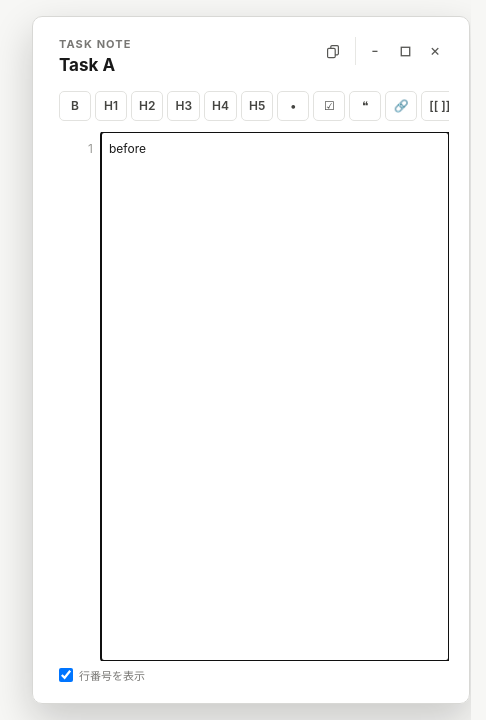
Scenario: TaskNoteEditor › blocks Task Note autosave, Ctrl+S, and safe flush while an internal-link marker is unresolved
Click the button named "内部リンクを挿入" at point(440, 106), box [421,91,458,121]
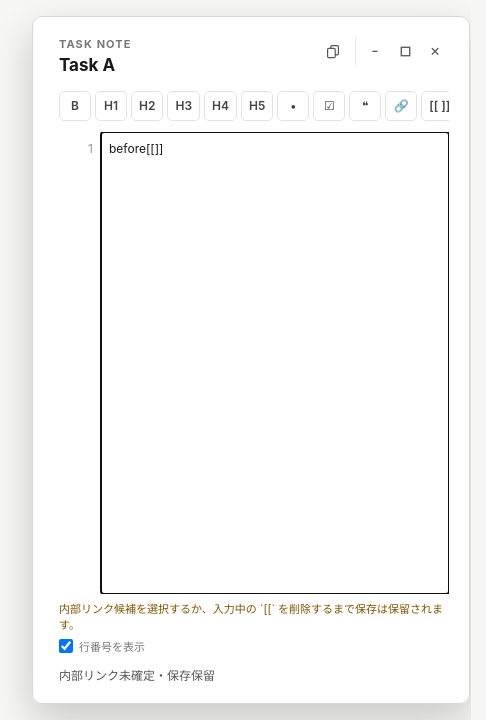
Result: the text box named "Markdown本文" holds "before[ []]"
Press s in the text box named "Markdown本文", box [101,132,449,594]
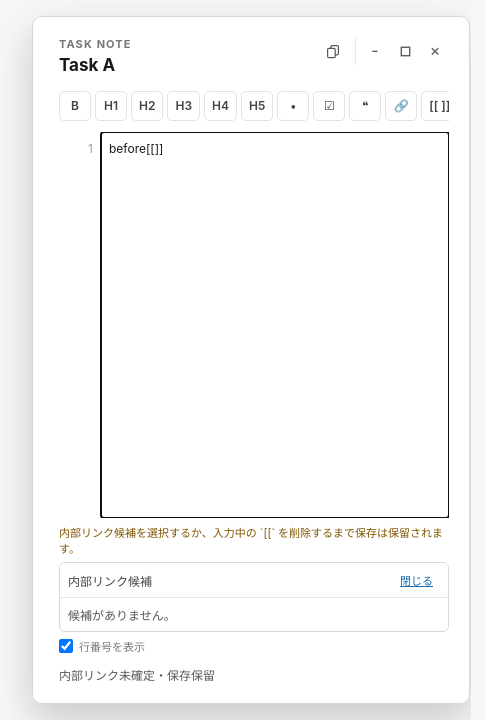
Replace the text in the text box named "Markdown本文" with "before edited" at point(275, 325), box [101,132,449,518]
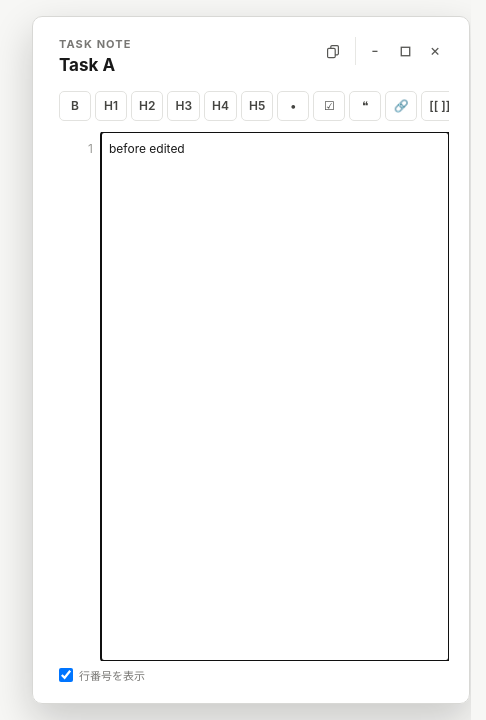
Result: the text "before edited" is shown at [109,141,185,156]
